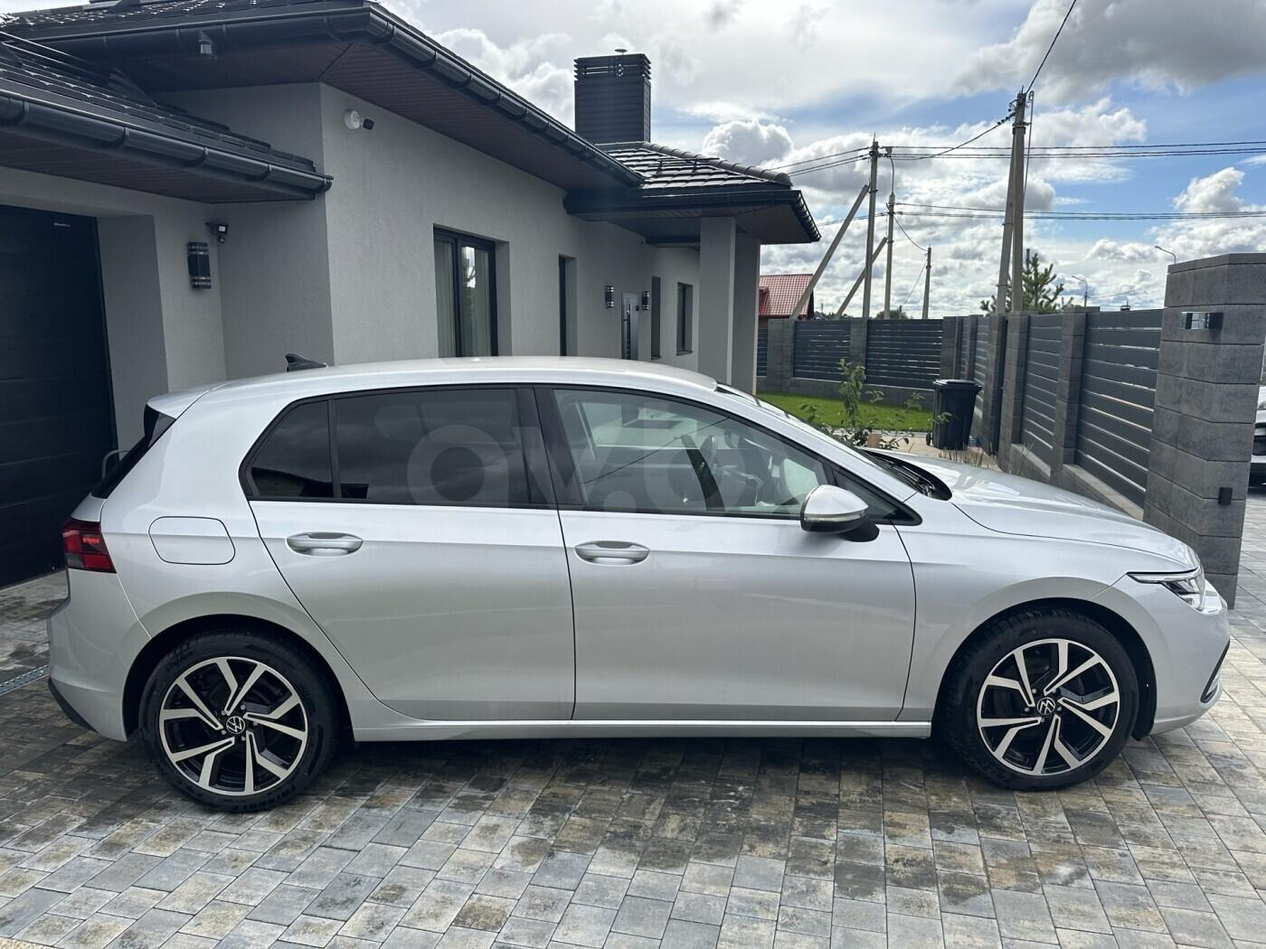Golf_2019: (41, 354, 1239, 799)
